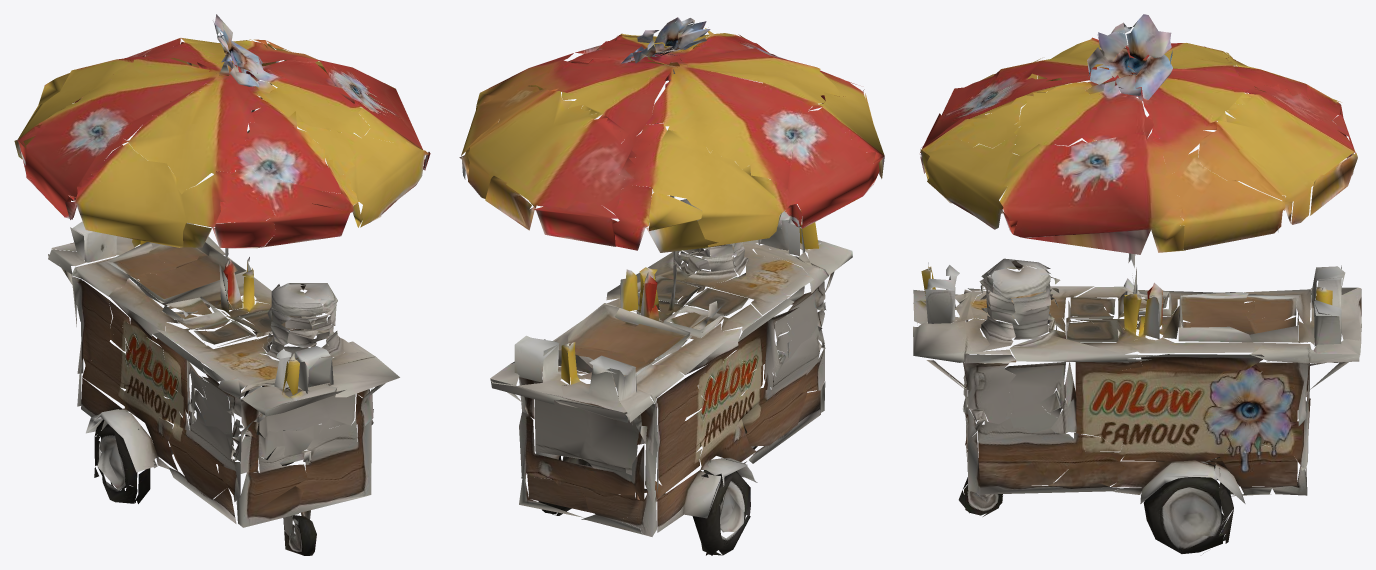
The model's file is hotdog.glb.
3 renders of one model, left to right at view 1: azimuth 30°, elevation 25°; view 2: azimuth 150°, elevation 25°; view 3: azimuth 270°, elevation 25°, orthographic. The views are drawn at different scales.
Visible parts, largest first — view 1: tripo_node_e25accba-6ed8-44d8-9611-c989d3f0a4cc; view 2: tripo_node_e25accba-6ed8-44d8-9611-c989d3f0a4cc; view 3: tripo_node_e25accba-6ed8-44d8-9611-c989d3f0a4cc.
Boxes of the visible parts, x1,y1,x2,y2 form: tripo_node_e25accba-6ed8-44d8-9611-c989d3f0a4cc: (14,14,430,555); tripo_node_e25accba-6ed8-44d8-9611-c989d3f0a4cc: (459,17,884,555); tripo_node_e25accba-6ed8-44d8-9611-c989d3f0a4cc: (913,14,1361,553).
Bounding box in the file's own units: 0.7762 × 1 × 0.8145.
Materials: 1 (1 with a texture image).
